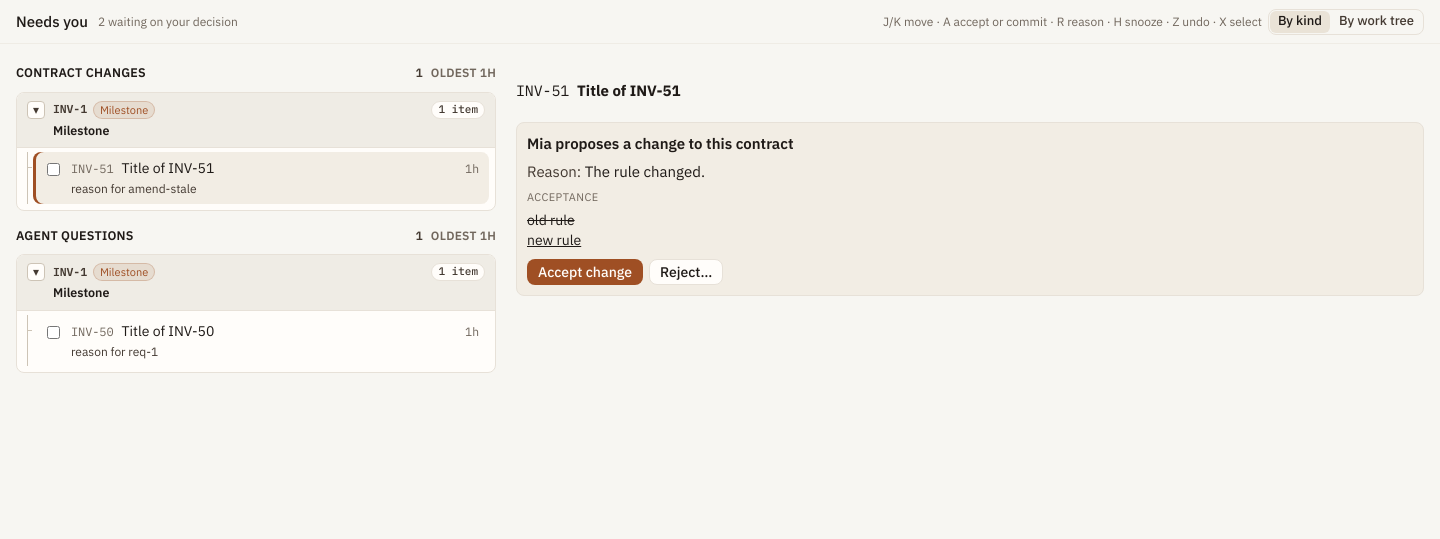
it: Needs you (INV-1092) › never batches a decision that needs a reason or a stale contract change
Click the checkbox named "Select INV-50" at (54,332), box [47,326,60,339]
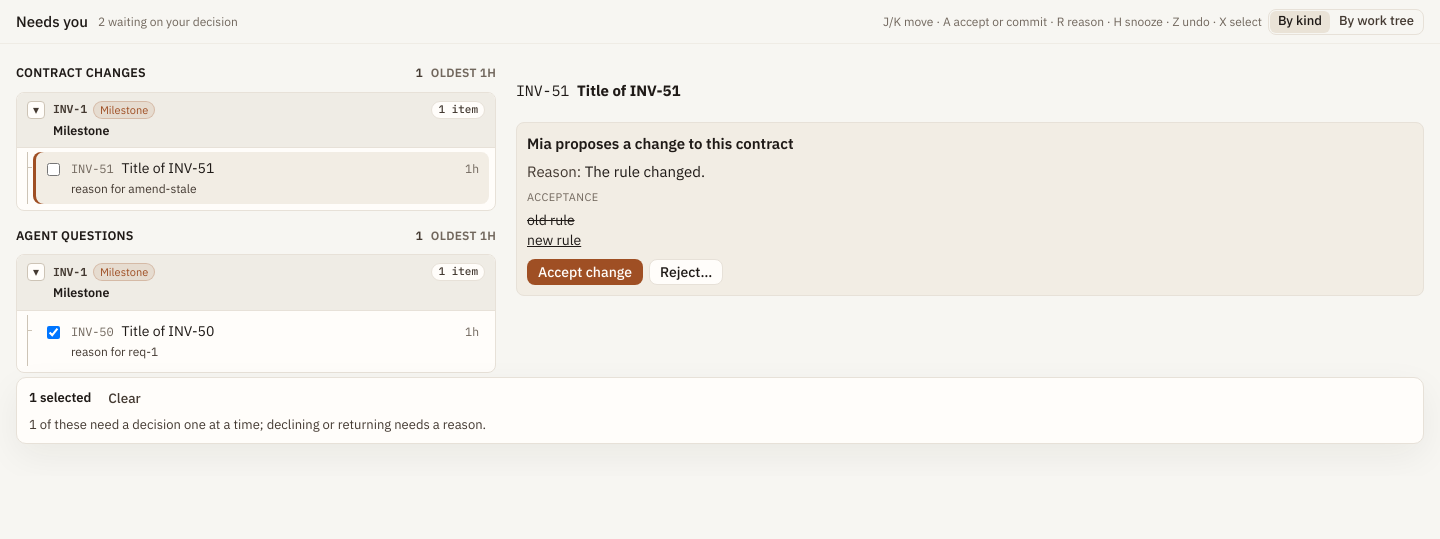
Now the text "1 of these need a decision one at a time; declining or returning needs a reason." is shown, box [29,416,486,433]
Click the checkbox named "Select INV-51" at (54,170), box [47,163,60,176]
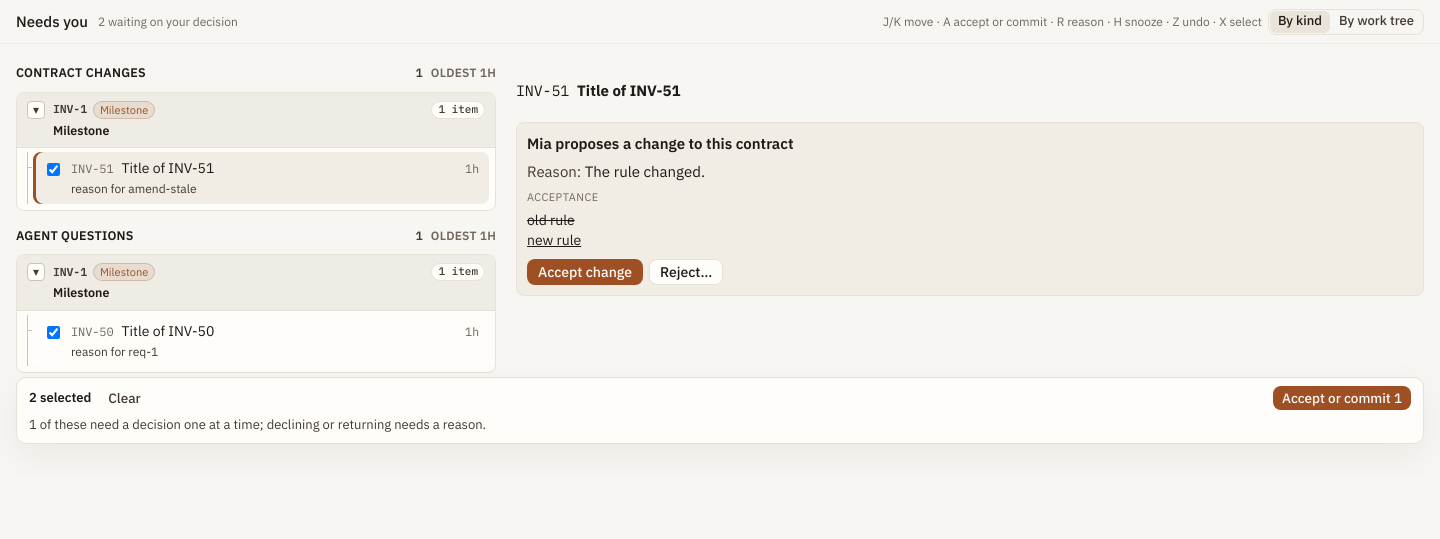
Click the button "Accept or commit 1" at (1342,398), box [1273,386,1411,410]
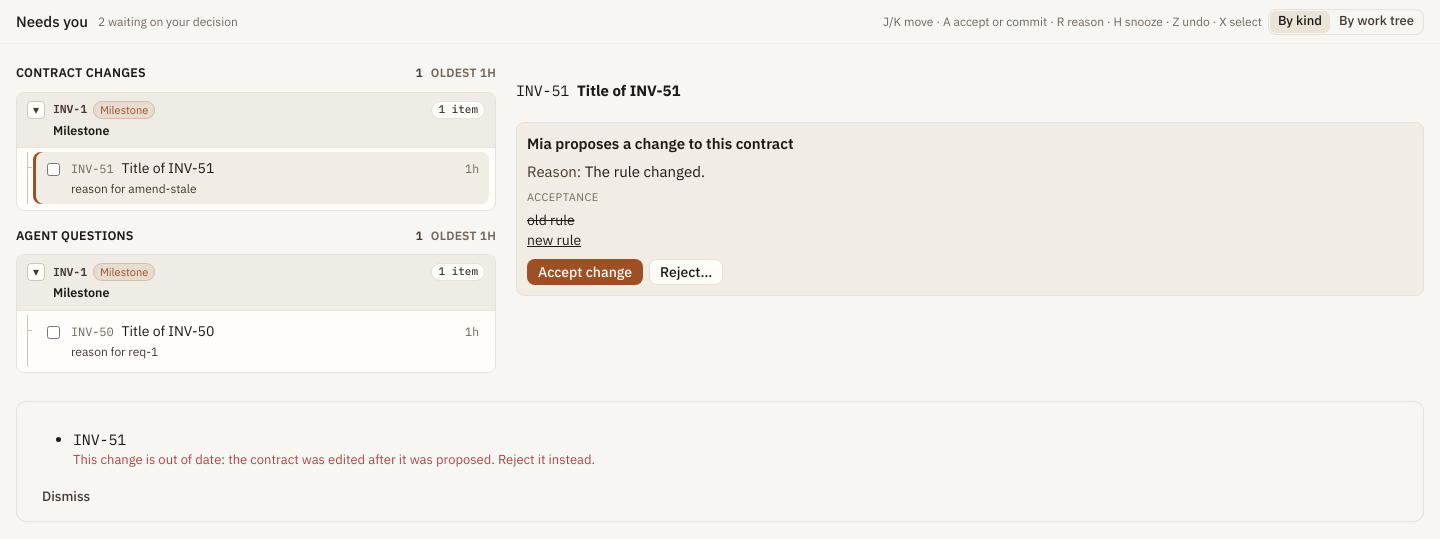
Now the text "out of date" is shown, box [73,451,595,468]
